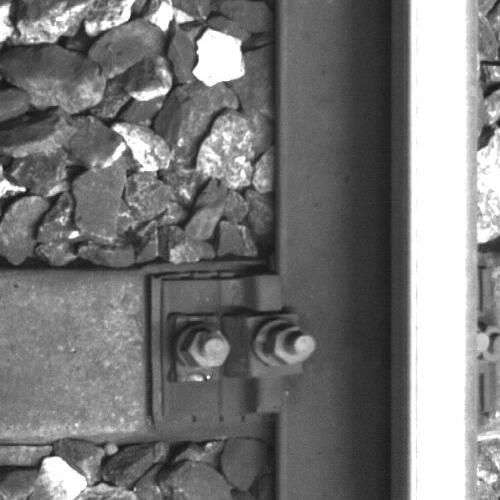kb: (164, 283, 319, 417)
nut: (266, 324, 316, 366), (182, 326, 229, 368)
rail: (409, 1, 477, 500)
tie_concr: (1, 268, 276, 434)
